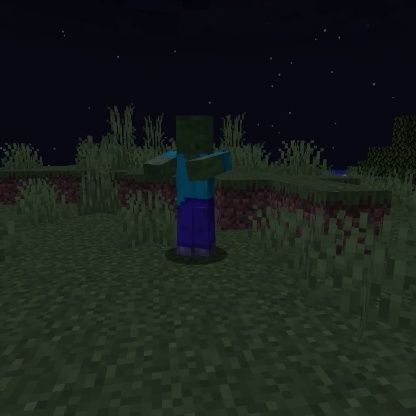zombie: (139, 111, 237, 263)
